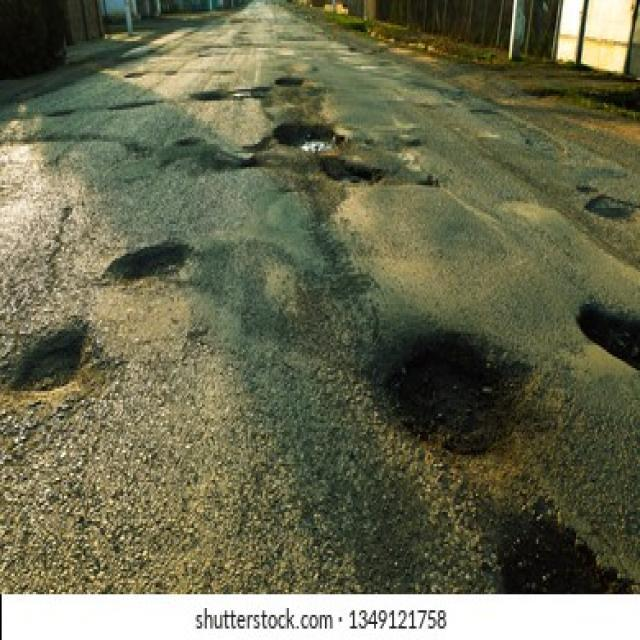Pothole: (374, 324, 550, 471), (485, 500, 640, 594), (3, 316, 94, 402), (572, 295, 640, 375), (101, 238, 192, 292), (272, 118, 344, 154), (318, 153, 386, 190), (212, 137, 268, 174), (584, 190, 640, 224), (276, 73, 306, 92), (197, 92, 225, 100), (48, 108, 72, 116), (124, 71, 142, 78)
